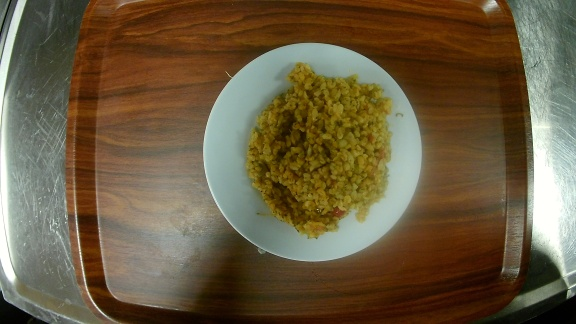bulgur: (202, 42, 423, 263)
